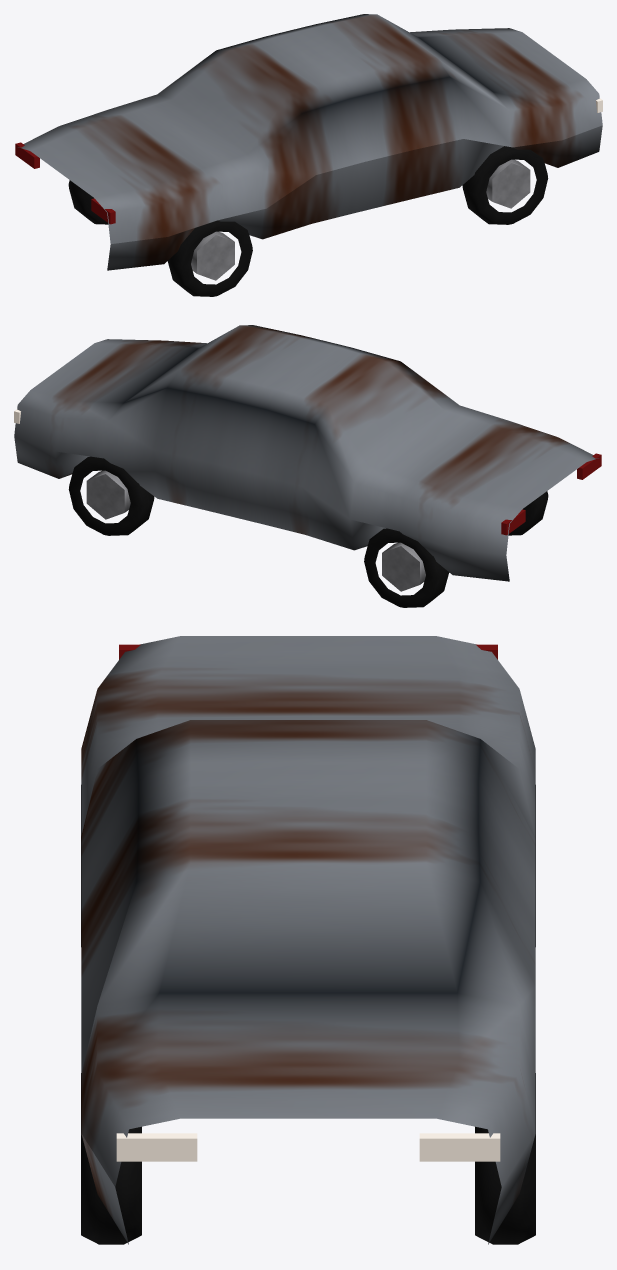
The model's file is car_L0.glb.
3 renders of one model, top to bottom at view 1: azimuth 30°, elevation 25°; view 2: azimuth 150°, elevation 25°; view 3: azimuth 270°, elevation 25°, orthographic. The views are drawn at different scales.
Parts seen in each view (by area): view 1: body, tire (×3), rim (×2); view 2: body, tire (×3), rim (×2); view 3: body, tire (×2), lamp (×2).
Boxes of the visible parts, left/top/right/bottom form: body: left=18, top=14, right=602, bottom=270; tire (×3): left=68, top=146, right=548, bottom=296; rim (×2): left=191, top=159, right=530, bottom=280; body: left=14, top=325, right=598, bottom=581; tire (×3): left=68, top=456, right=548, bottom=607; rim (×2): left=86, top=470, right=425, bottom=591; body: left=81, top=636, right=535, bottom=1244; tire (×2): left=81, top=1073, right=535, bottom=1244; lamp (×2): left=116, top=1133, right=500, bottom=1161.
Bounding box in the file's own units: 4.51 × 1.44 × 1.8.
Materials: 5 (3 with a texture image).
